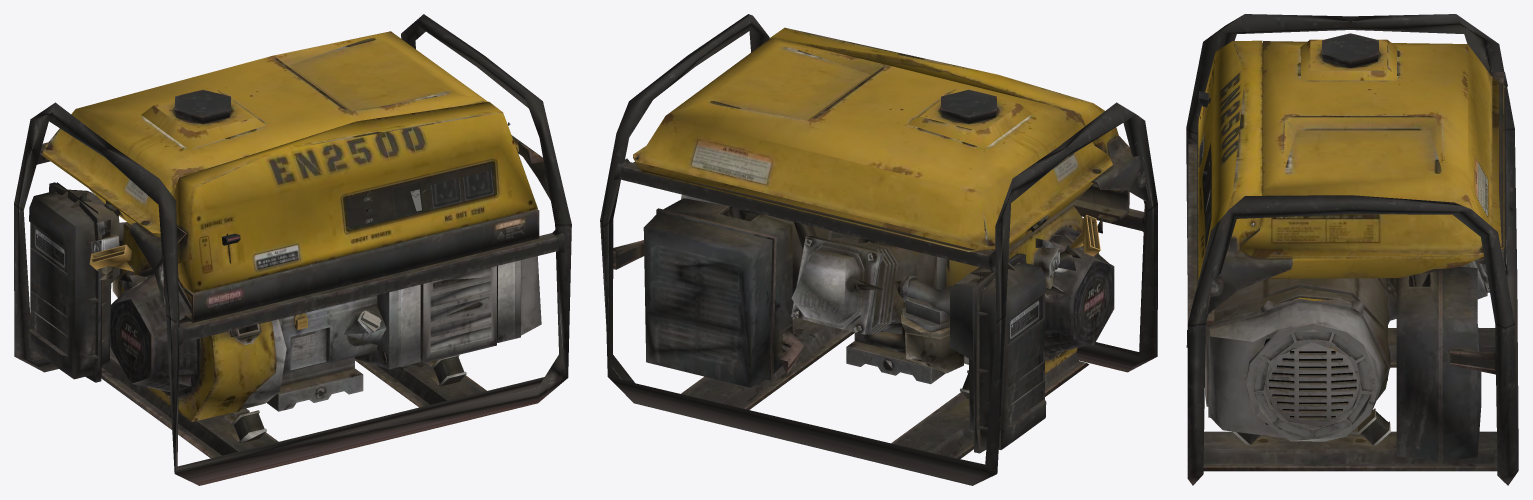
Rendered from portable_generator.glb.
3 views of the same model, side by side, from view 1: azimuth 30°, elevation 25°; view 2: azimuth 150°, elevation 25°; view 3: azimuth 270°, elevation 25° (orthographic).
Visible parts, largest first — view 1: portable_generator; view 2: portable_generator; view 3: portable_generator.
Boxes of the visible parts, x1=… form: portable_generator: x1=14, y1=14, x2=571, y2=485; portable_generator: x1=600, y1=14, x2=1157, y2=485; portable_generator: x1=1186, y1=14, x2=1518, y2=485.
Bounding box in the file's own units: 0.8169 × 0.5752 × 0.5574.
Materials: 2 (2 with a texture image).
